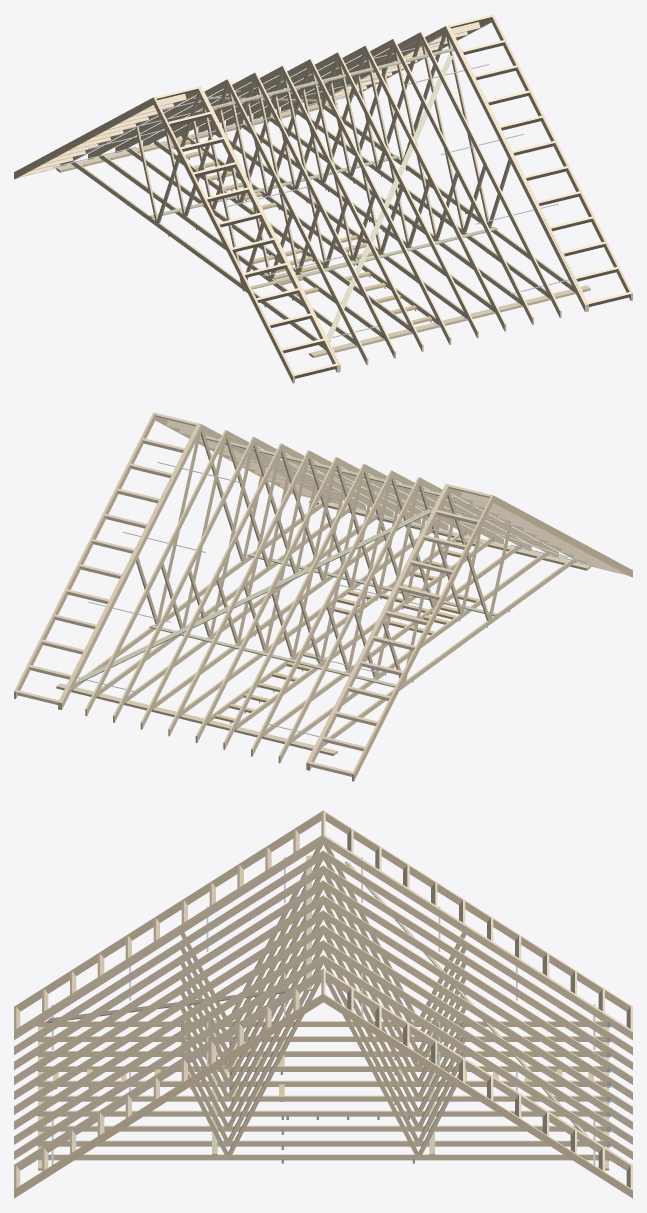
Rendered from stage-5.glb.
3 views of the same model, one above another, from view 1: azimuth 30°, elevation 25°; view 2: azimuth 150°, elevation 25°; view 3: azimuth 270°, elevation 25° (orthographic). The views are drawn at different scales.
Visible parts, largest first — view 1: Geom3D_TC01 truss chord 35 x 120 TR26 L6412, Geom3D_TW04 truss web 35 x 72 TR26 L1934, Geom3D_OR78 outrigger 47 x 122 TR26 L910, Geom3D_BG76 barge 47 x 122 TR26 L6412, Geom3D_BN71 binder 22 x 97 C16 L5382, Geom3D_LR77 ladder rail 47 x 122 TR26 L6412, Geom3D, Geom3D_47 x 97 TR26 flat ceiling noggin 565 (F6), Geom3D_TCP38 clip; view 2: Geom3D_TC01 truss chord 35 x 120 TR26 L6412, Geom3D_TW04 truss web 35 x 72 TR26 L1934, Geom3D_OR78 outrigger 47 x 122 TR26 L910, Geom3D_BG76 barge 47 x 122 TR26 L6412, Geom3D_BN71 binder 22 x 97 C16 L5382, Geom3D_LR77 ladder rail 47 x 122 TR26 L6412, Geom3D, Geom3D_47 x 97 TR26 flat ceiling noggin 565 (F6), Geom3D_TCP38 clip; view 3: Geom3D_TC01 truss chord 35 x 120 TR26 L6412, Geom3D_TW04 truss web 35 x 72 TR26 L1934, Geom3D_BG76 barge 47 x 122 TR26 L6412, Geom3D_OR78 outrigger 47 x 122 TR26 L910, Geom3D_LR77 ladder rail 47 x 122 TR26 L6412, Geom3D_BN71 binder 22 x 97 C16 L5382, Geom3D_TCP38 clip, Geom3D_47 x 97 TR26 flat ceiling noggin 565 (F6).
Part boxes in pixels (x1,y1,x2,y2): Geom3D_TC01 truss chord 35 x 120 TR26 L6412: (66,26,586,371); Geom3D_TW04 truss web 35 x 72 TR26 L1934: (135,33,510,285); Geom3D_OR78 outrigger 47 x 122 TR26 L910: (18,15,630,378); Geom3D_BG76 barge 47 x 122 TR26 L6412: (14,14,632,383); Geom3D_BN71 binder 22 x 97 C16 L5382: (149,48,497,341); Geom3D_LR77 ladder rail 47 x 122 TR26 L6412: (60,25,588,372); Geom3D: (56,101,590,357); Geom3D_47 x 97 TR26 flat ceiling noggin 565 (F6): (165,140,431,324); Geom3D_TCP38 clip: (53,40,574,352); Geom3D_TC01 truss chord 35 x 120 TR26 L6412: (60,424,580,769); Geom3D_TW04 truss web 35 x 72 TR26 L1934: (136,431,511,683); Geom3D_OR78 outrigger 47 x 122 TR26 L910: (16,413,628,776); Geom3D_BG76 barge 47 x 122 TR26 L6412: (14,412,632,781); Geom3D_BN71 binder 22 x 97 C16 L5382: (79,436,567,687); Geom3D_LR77 ladder rail 47 x 122 TR26 L6412: (58,423,586,770); Geom3D: (56,499,590,755); Geom3D_47 x 97 TR26 flat ceiling noggin 565 (F6): (215,538,481,722); Geom3D_TCP38 clip: (78,438,593,736); Geom3D_TC01 truss chord 35 x 120 TR26 L6412: (14,835,632,1165); Geom3D_TW04 truss web 35 x 72 TR26 L1934: (180,844,466,1154); Geom3D_BG76 barge 47 x 122 TR26 L6412: (14,810,632,1198); Geom3D_OR78 outrigger 47 x 122 TR26 L910: (14,811,632,1189); Geom3D_LR77 ladder rail 47 x 122 TR26 L6412: (14,834,632,1170); Geom3D_BN71 binder 22 x 97 C16 L5382: (46,855,588,1154); Geom3D_TCP38 clip: (36,857,610,1165); Geom3D_47 x 97 TR26 flat ceiling noggin 565 (F6): (53,1039,593,1095).
Bounding box in the file's own units: 7.39 × 3.83 × 10.5.
